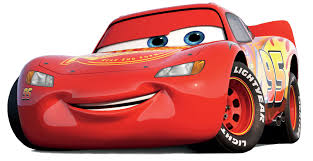mcqueen: (7, 2, 302, 153)
